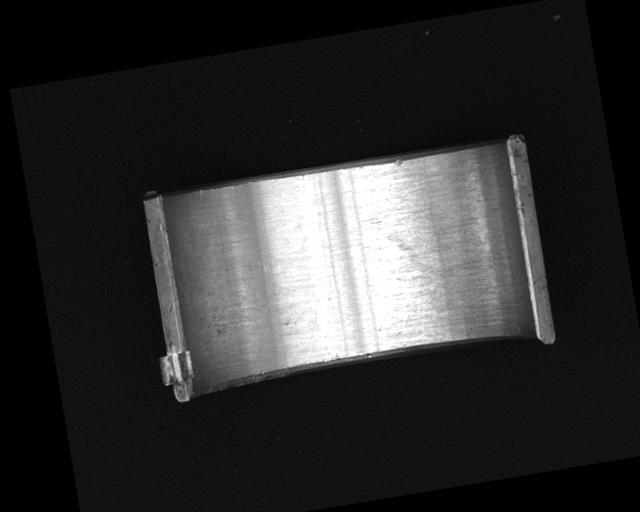bruise: (392, 158, 406, 168)
